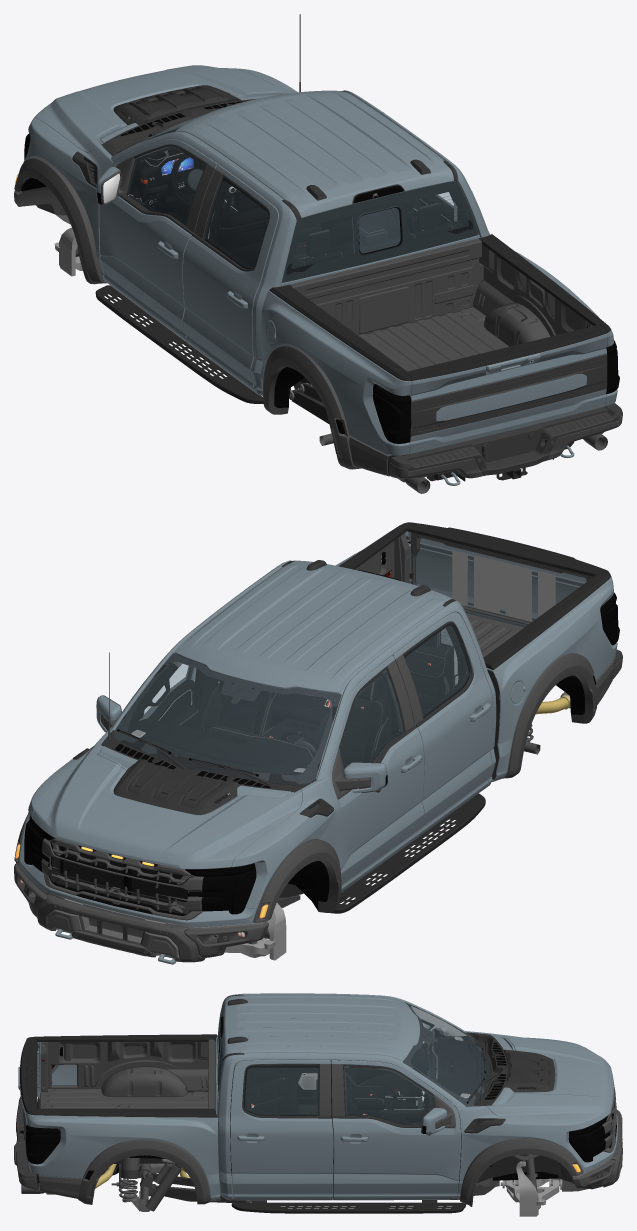
File: raptor.glb
3 views of the same model, one above another, from view 1: azimuth 30°, elevation 25°; view 2: azimuth 150°, elevation 25°; view 3: azimuth 270°, elevation 25° (orthographic). The views are drawn at different scales.
Parts seen in each view (by area): view 1: Body, Steering; view 2: Body; view 3: Body.
Boxes of the visible parts, bbox=[...] form: Body: bbox=[14, 14, 622, 493]; Steering: bbox=[170, 154, 202, 207]; Body: bbox=[14, 522, 622, 964]; Body: bbox=[14, 993, 622, 1216].
Size of the model in its own units: 2.42 by 2.03 by 5.9.
32 materials, 21 textured.
